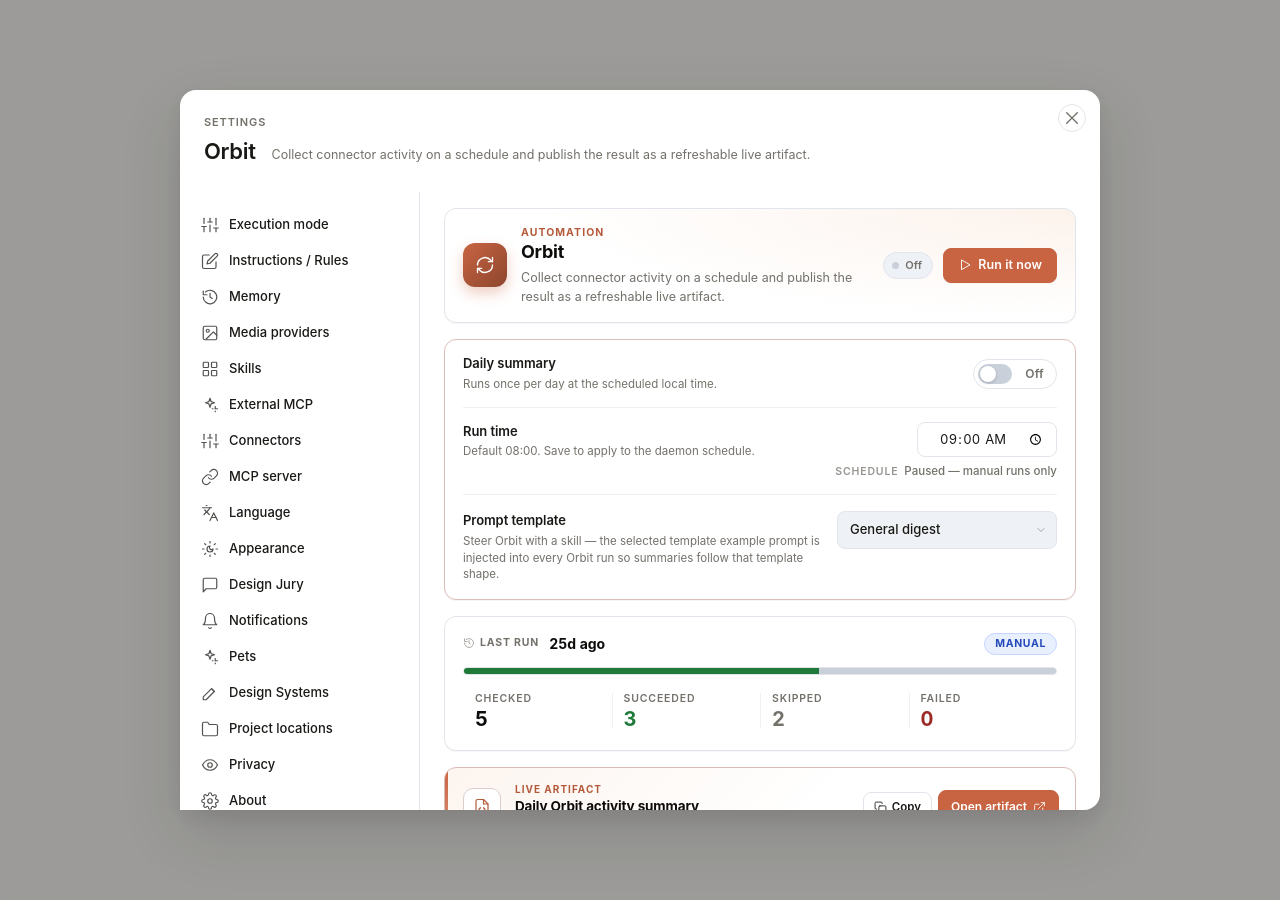
Test: SettingsDialog Orbit connector gate refresh › renders the Open artifact link only when Orbit last run includes a live artifact target
Select "Editorial digest" in the dropdown named "Orbit prompt template" at (947, 530), box top-left (837, 511), bottom-right (1057, 549)
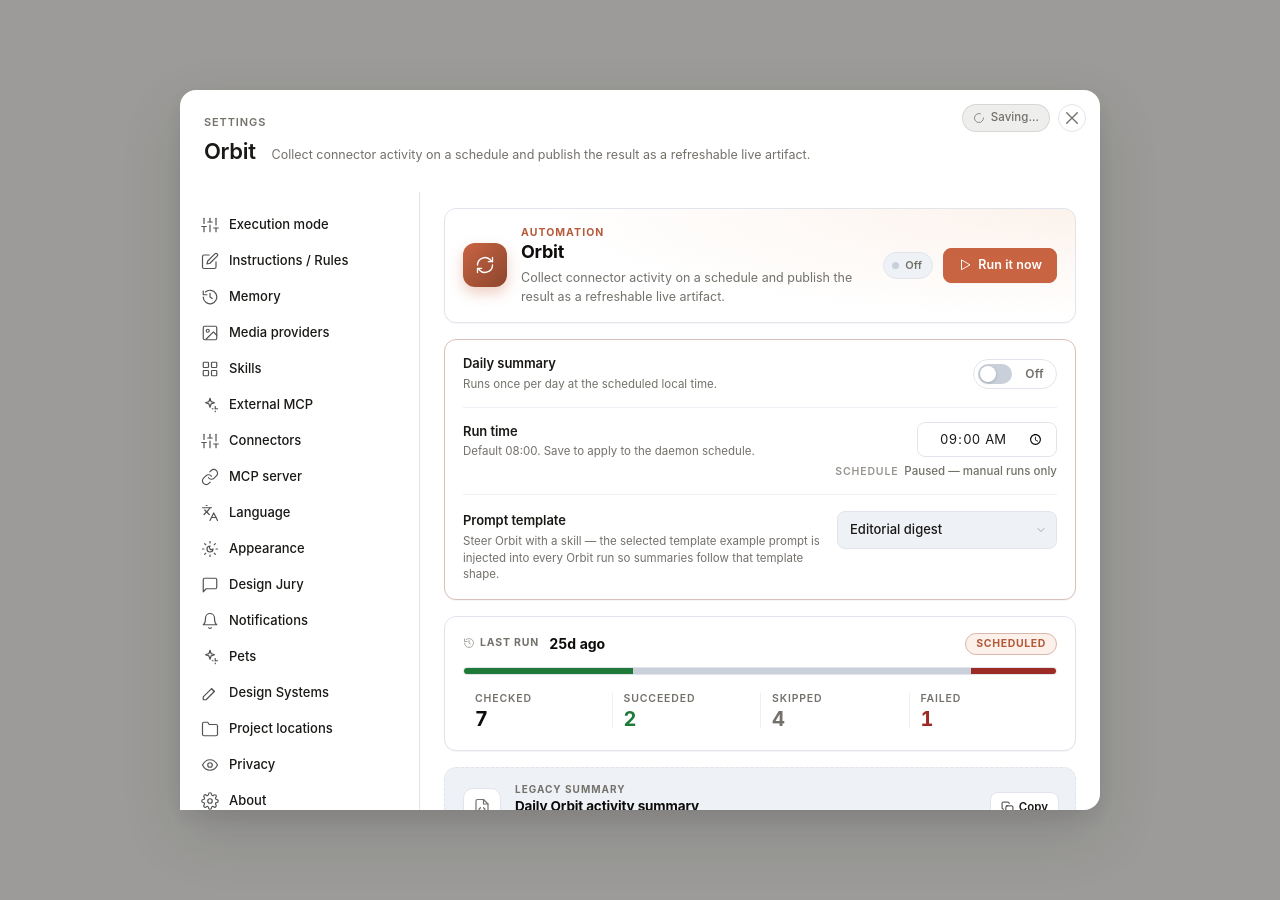
Expected: the link "Open artifact" is gone
